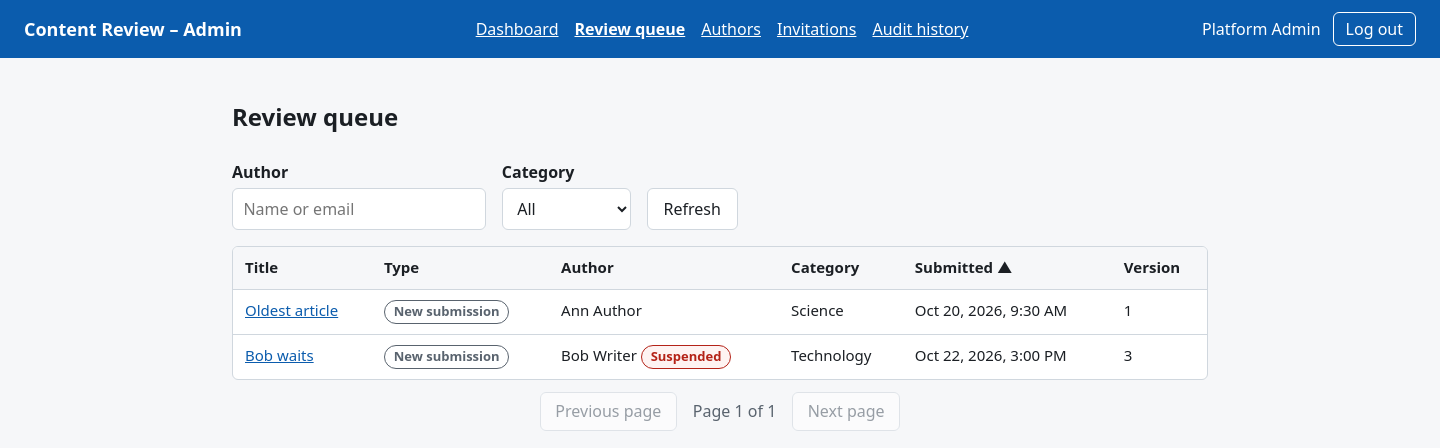
Test: filters › says when no author matches the typed text
This screenshot has width=1440, height=448.
Expected: the heading "Review queue" is shown, [232,102,398,132]
Expected: the table is shown, [233,247,1207,379]
Type "zzz" into the dropdown with test id "review-author-search" at [359, 209], box [232,188,486,230]
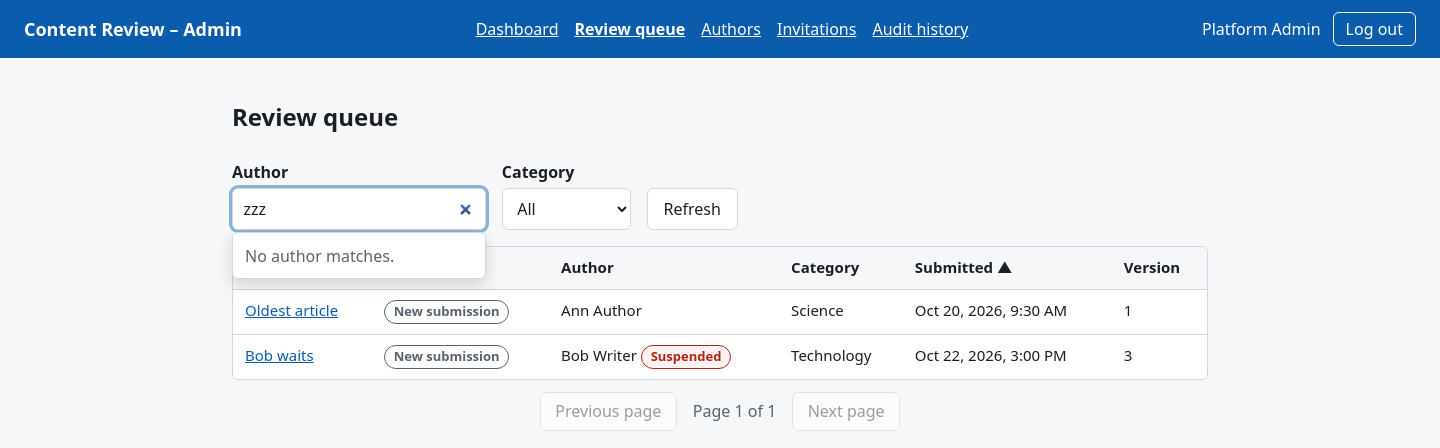
Expected: the list item "No author matches." is shown, [245,245,394,267]
